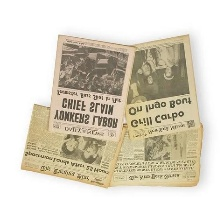news_paper: (43, 31, 140, 144), (18, 100, 132, 191), (119, 30, 203, 142), (106, 120, 209, 192)
